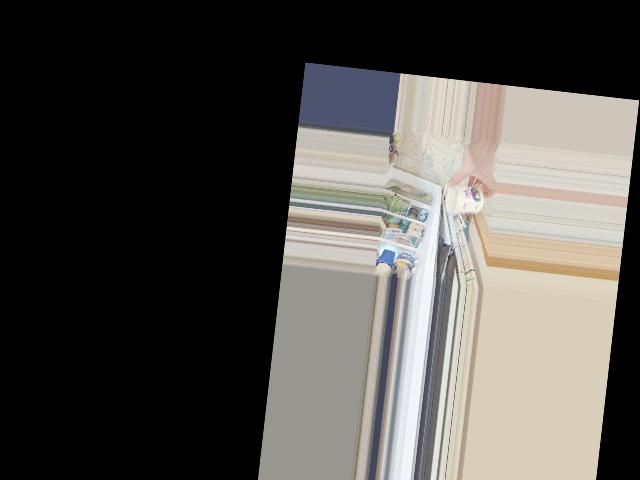cotage: (443, 182, 486, 217)
